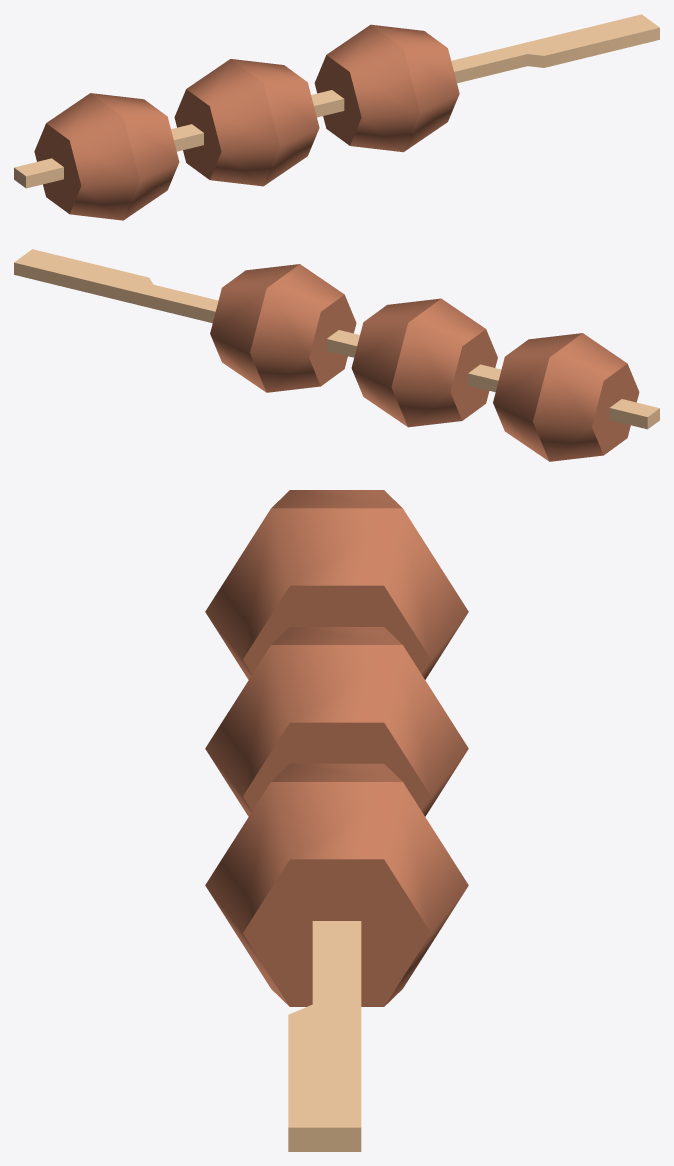
The model's file is skewer.fbx.
The picture shows the model from 3 angles, top to bottom: view 1: azimuth 30°, elevation 25°; view 2: azimuth 150°, elevation 25°; view 3: azimuth 270°, elevation 25°; orthographic projection. The views are drawn at different scales.
Parts seen in each view (by area): view 1: meat (×3), skewer; view 2: meat (×3), skewer; view 3: meat (×3), skewer.
Part boxes in pixels (x1,y1,x2,y2): meat (×3): [34, 24, 459, 220]; skewer: [14, 14, 659, 188]; meat (×3): [210, 264, 639, 461]; skewer: [14, 249, 659, 429]; meat (×3): [205, 490, 468, 1006]; skewer: [288, 921, 361, 1151].
Bounding box in the file's own units: 5.97 × 0.94 × 1.09.
